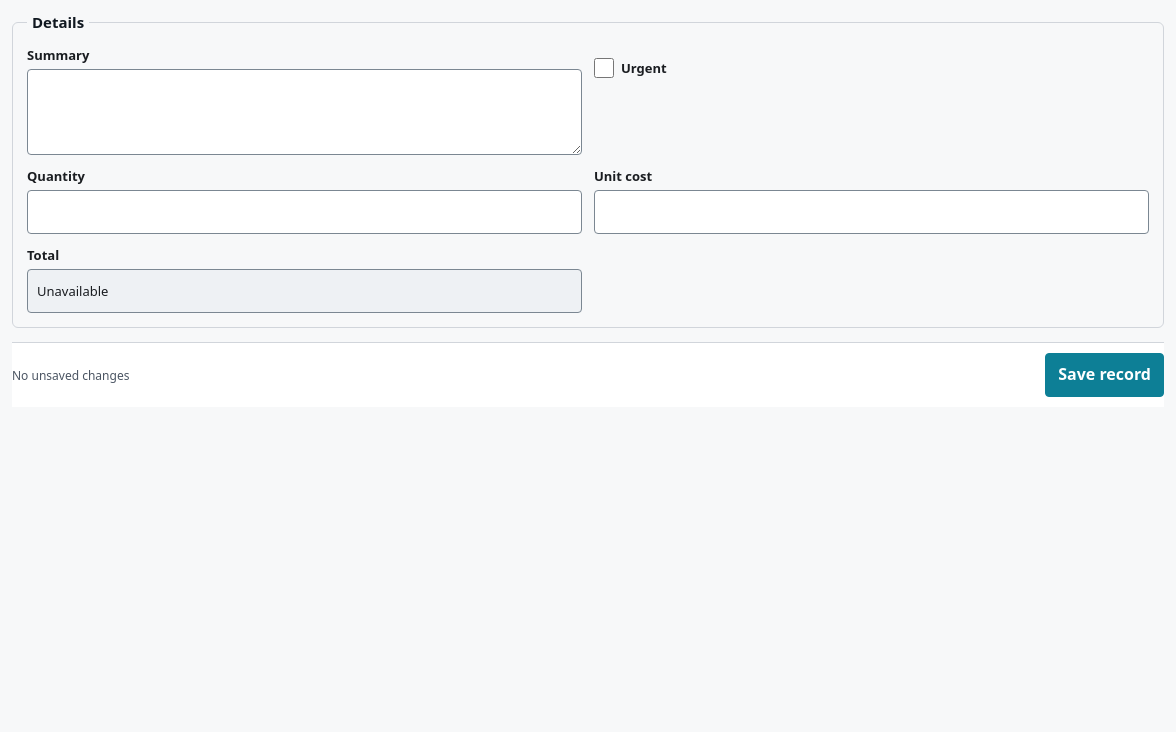
shared-schema form validation › shows and requires a conditional control only when its shared condition matches
The image size is (1176, 732).
Expected: the field labelled "Priority" is not shown
Click the checkbox labelled "Urgent": (604, 68) [594, 58, 614, 78]
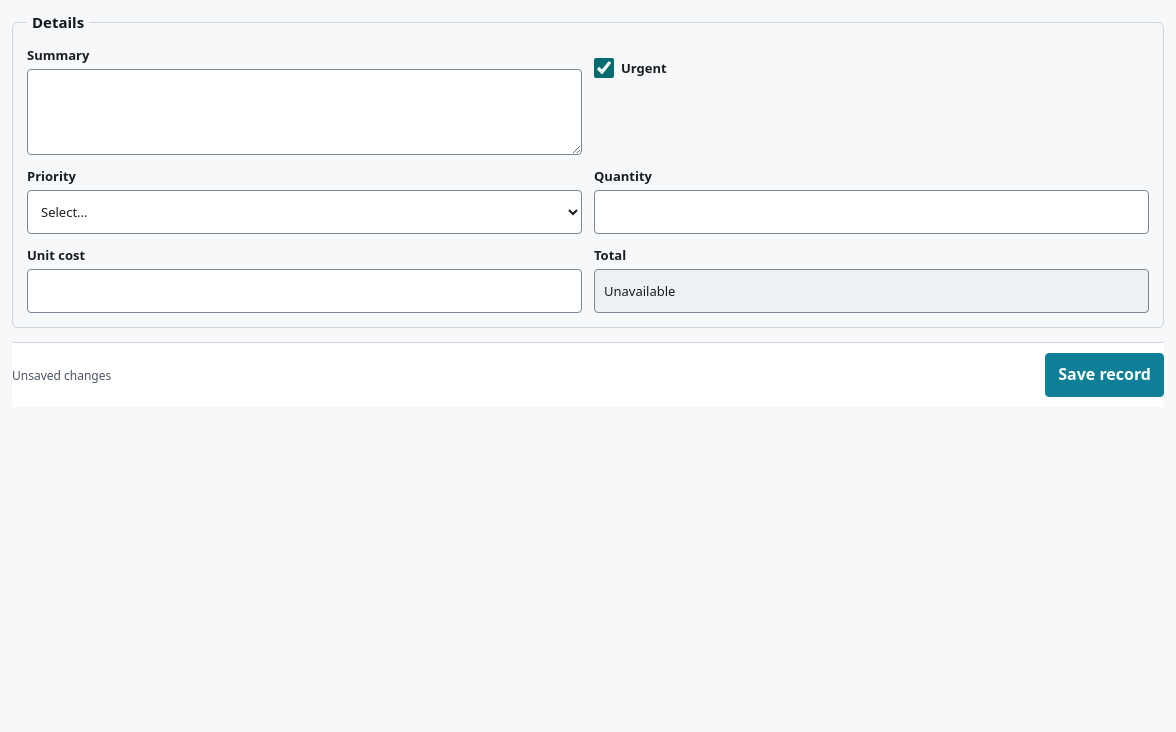
Expected: the dropdown labelled "Priority" is shown, [27, 190, 582, 234]
In the text box labelled "Summary": (304, 112) [27, 69, 582, 155], type "Generator request"
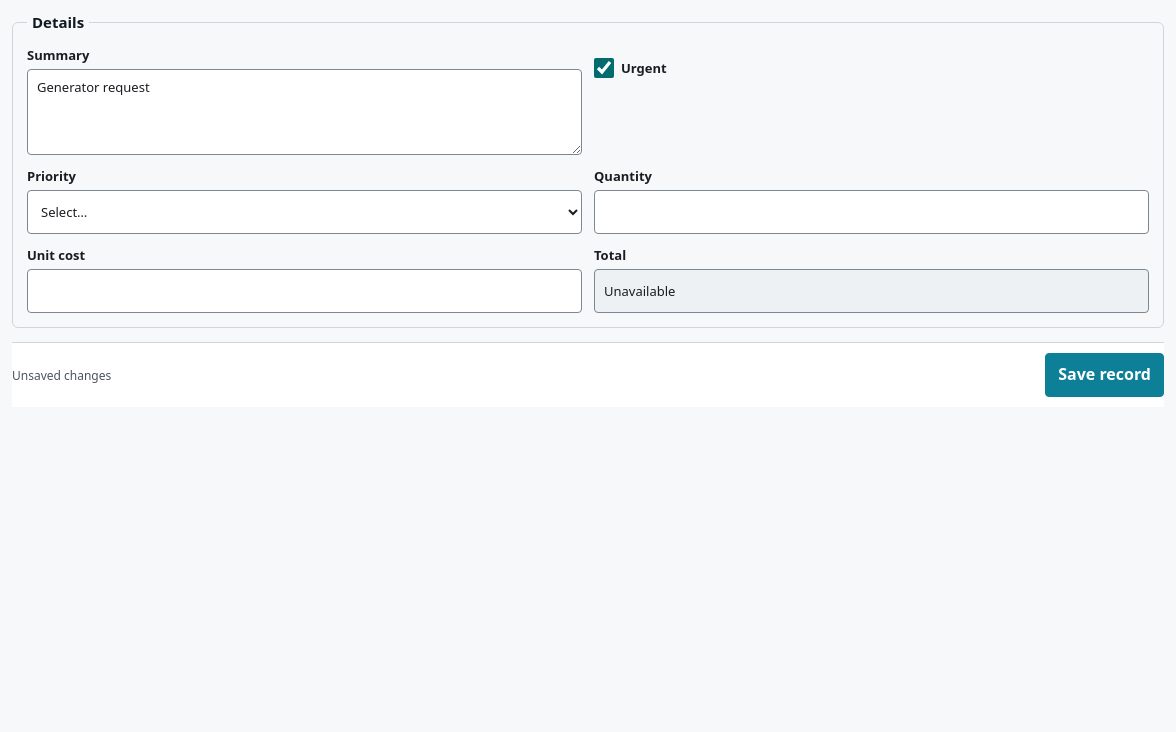
In the number field labelled "Quantity": (872, 212) [594, 190, 1149, 234], type "4"
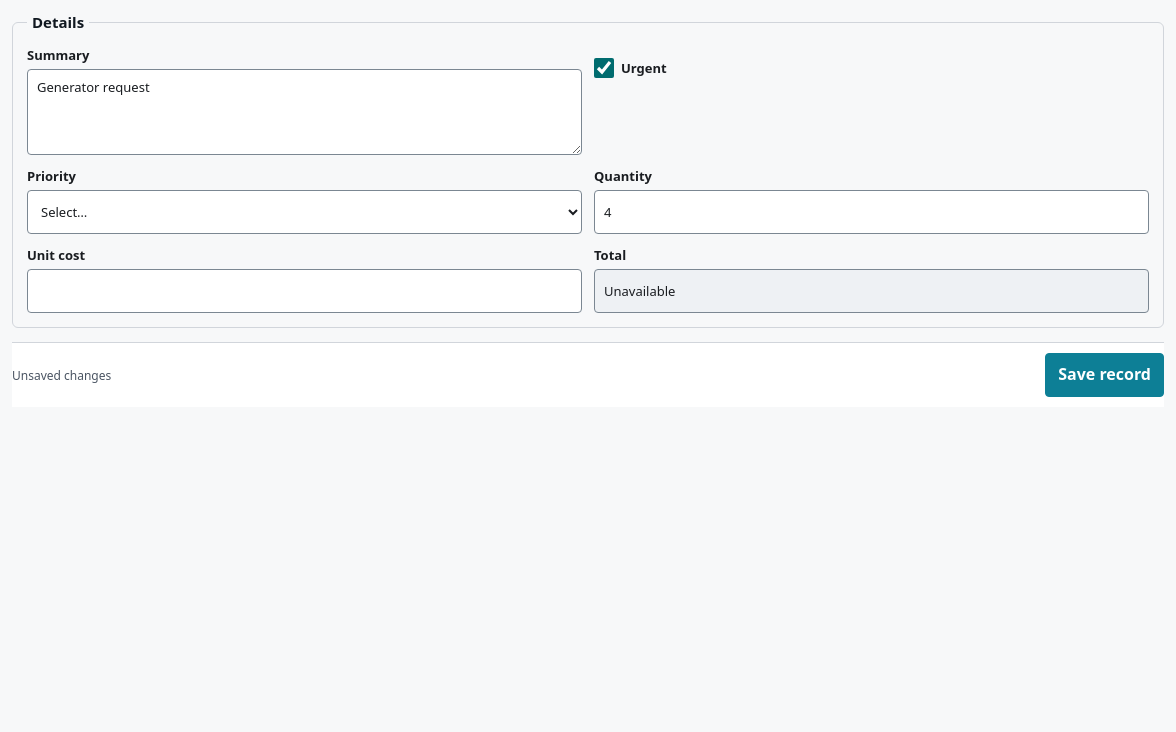
Click the button "Save record": (1105, 375) [1045, 353, 1164, 397]
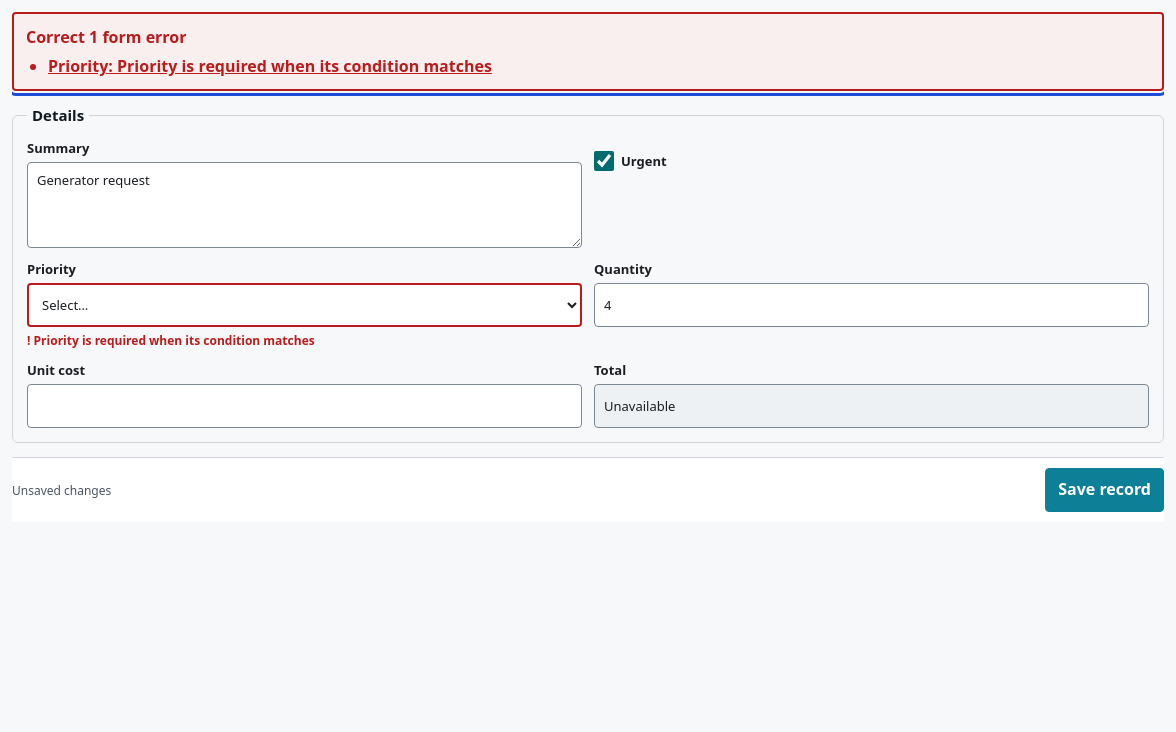
Expected: the link "Priority: Priority is required when its condition matches" is shown, [48, 55, 492, 77]
Select "urgent" in the dropdown labelled "Priority": (304, 305) [27, 283, 582, 327]
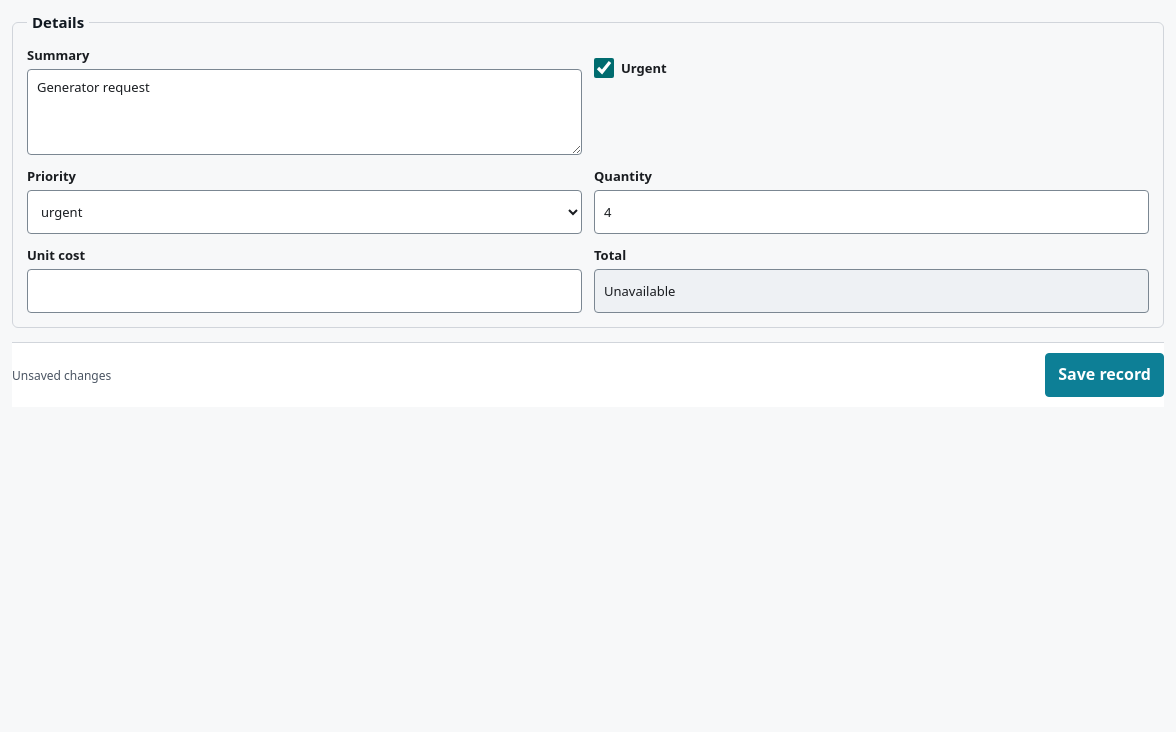
Click the button "Save record": (1105, 375) [1045, 353, 1164, 397]
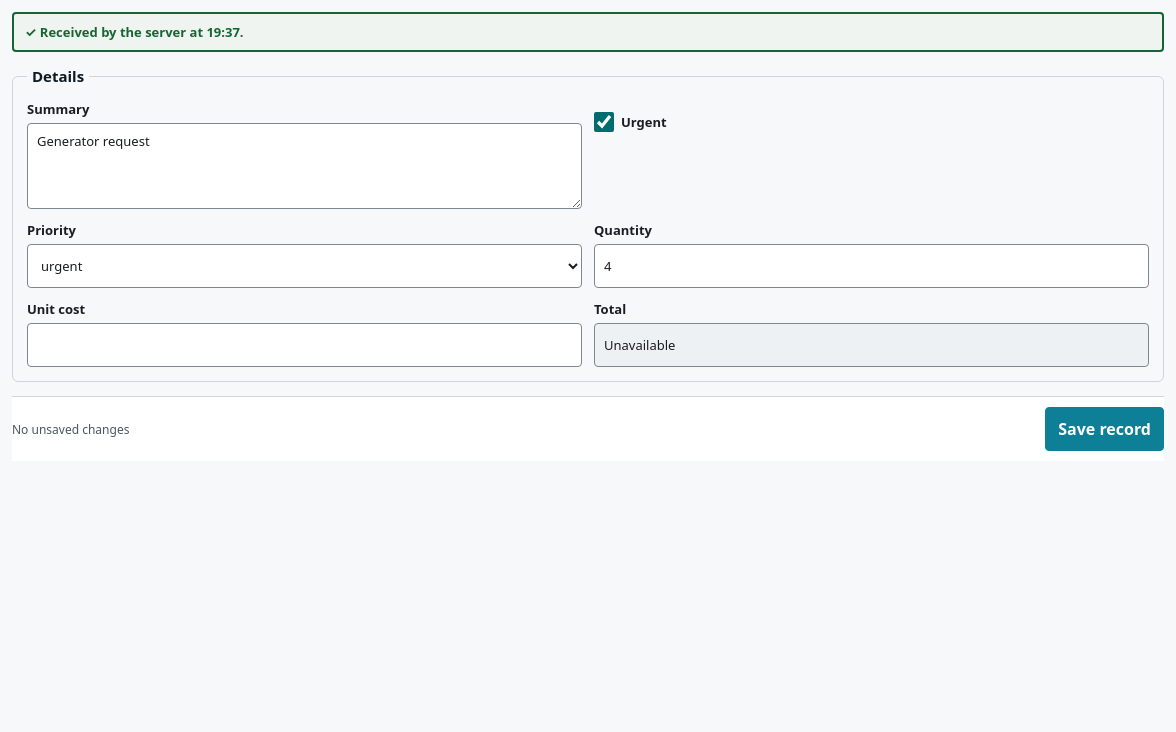
Expected: the text "Received by the server at 19:37." is shown, [12, 12, 1164, 52]
